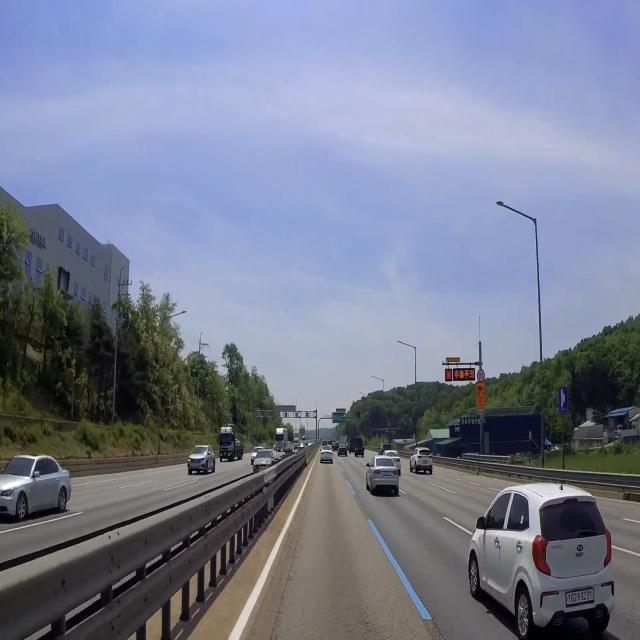car: (562, 583, 597, 610), (381, 471, 392, 477), (421, 461, 429, 464), (323, 456, 329, 460)
